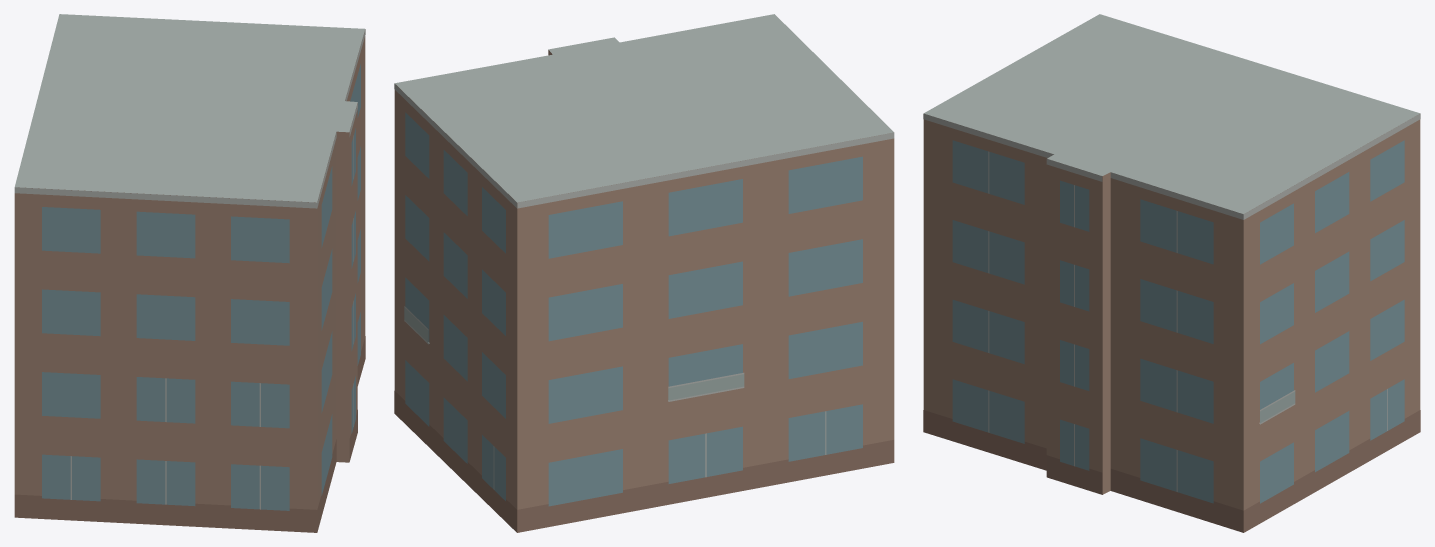
The model's file is survey-upis-32982202.glb.
3 renders of one model, left to right at view 1: azimuth 30°, elevation 25°; view 2: azimuth 150°, elevation 25°; view 3: azimuth 270°, elevation 25°, orthographic. The views are drawn at different scales.
Parts seen in each view (by area): view 1: survey-upis-32982202.tmp; view 2: survey-upis-32982202.tmp; view 3: survey-upis-32982202.tmp.
Part boxes in pixels (bbox=[...]): survey-upis-32982202.tmp: bbox=[14, 14, 365, 532]; survey-upis-32982202.tmp: bbox=[394, 14, 894, 532]; survey-upis-32982202.tmp: bbox=[923, 14, 1420, 532].
Bounding box in the file's own units: 18.06 × 13.4 × 18.95.
